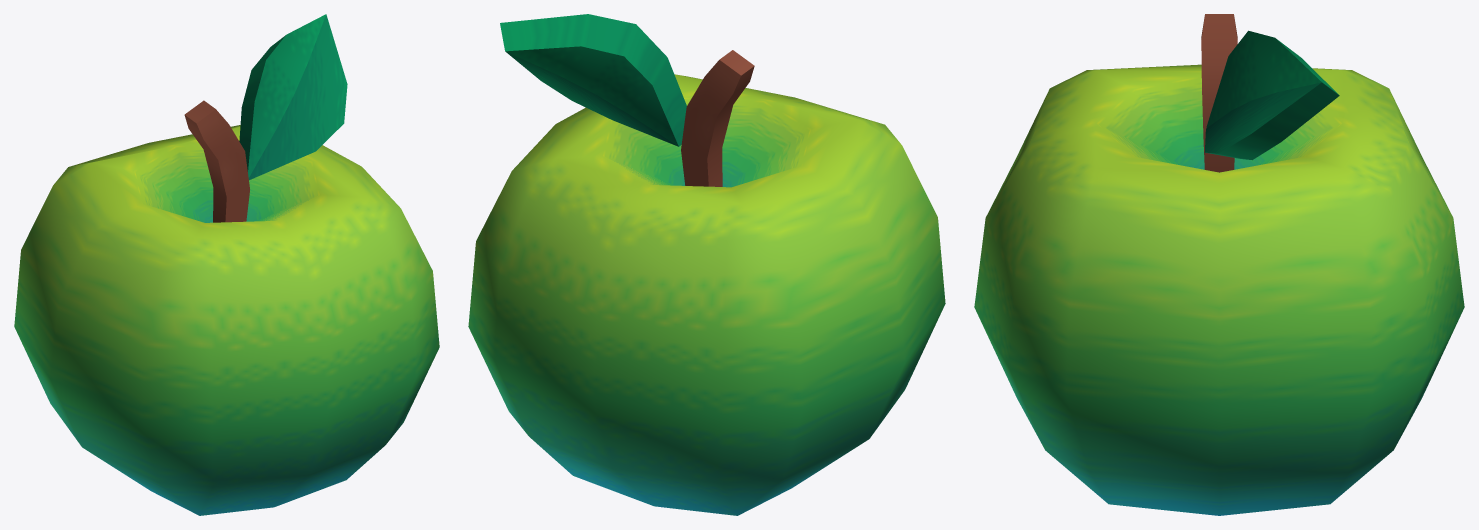
File: Food_Apple_Green.gltf
3 renders of one model, left to right at view 1: azimuth 30°, elevation 25°; view 2: azimuth 150°, elevation 25°; view 3: azimuth 270°, elevation 25°, orthographic. The views are drawn at different scales.
Visible parts, largest first — view 1: Food_Apple_Green; view 2: Food_Apple_Green; view 3: Food_Apple_Green.
Boxes of the visible parts, left/top/right/bottom form: Food_Apple_Green: left=14, top=14, right=439, bottom=515; Food_Apple_Green: left=468, top=14, right=945, bottom=515; Food_Apple_Green: left=974, top=14, right=1464, bottom=515.
Bounding box in the file's own units: 0.45 × 0.5 × 0.45.
Materials: 1 (1 with a texture image).
